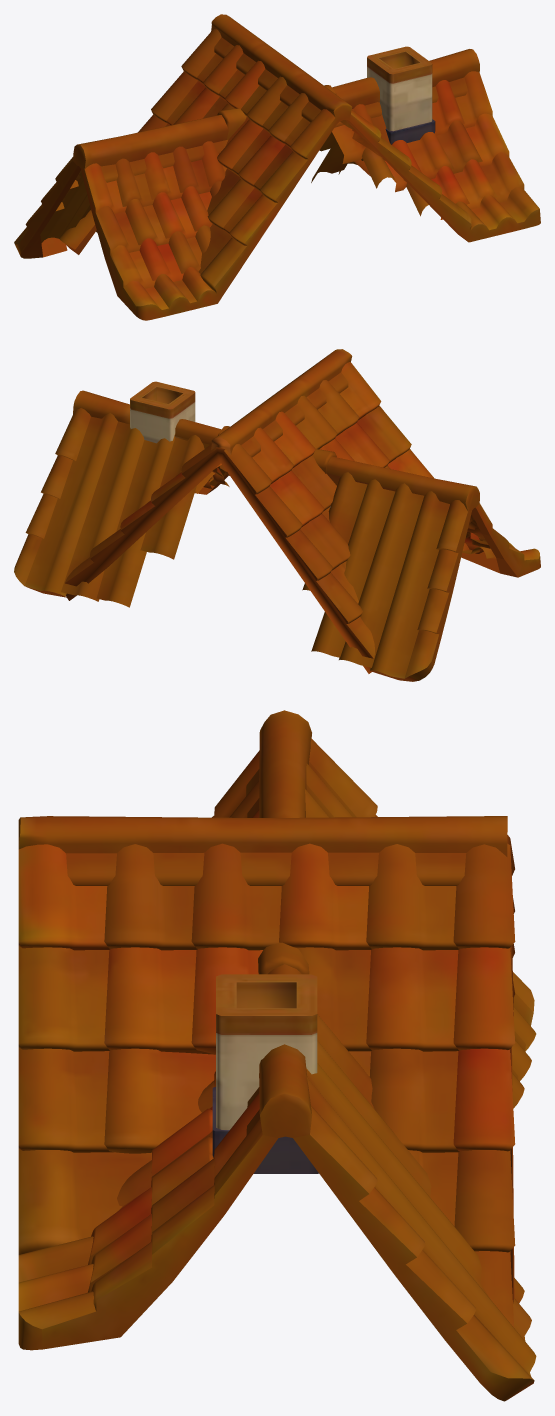
Rendered from roof-pa04-westerntile.glb.
The picture shows the model from 3 angles, top to bottom: view 1: azimuth 30°, elevation 25°; view 2: azimuth 150°, elevation 25°; view 3: azimuth 270°, elevation 25°; orthographic projection. The views are drawn at different scales.
Size of the model in its own units: 49.94 by 23.04 by 27.1.
2 materials, 2 textured.
